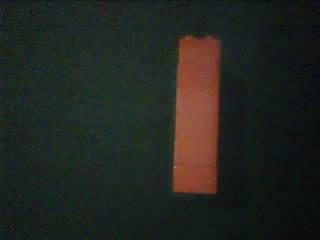lego: (171, 34, 222, 194)
